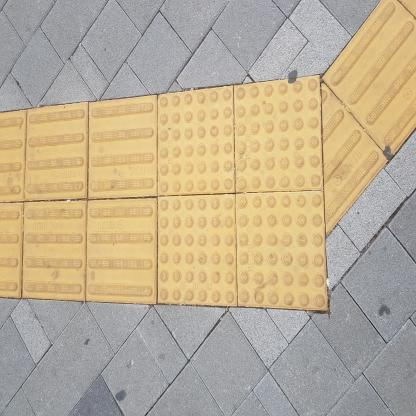podotacti: (0, 71, 335, 325), (318, 0, 415, 241)
